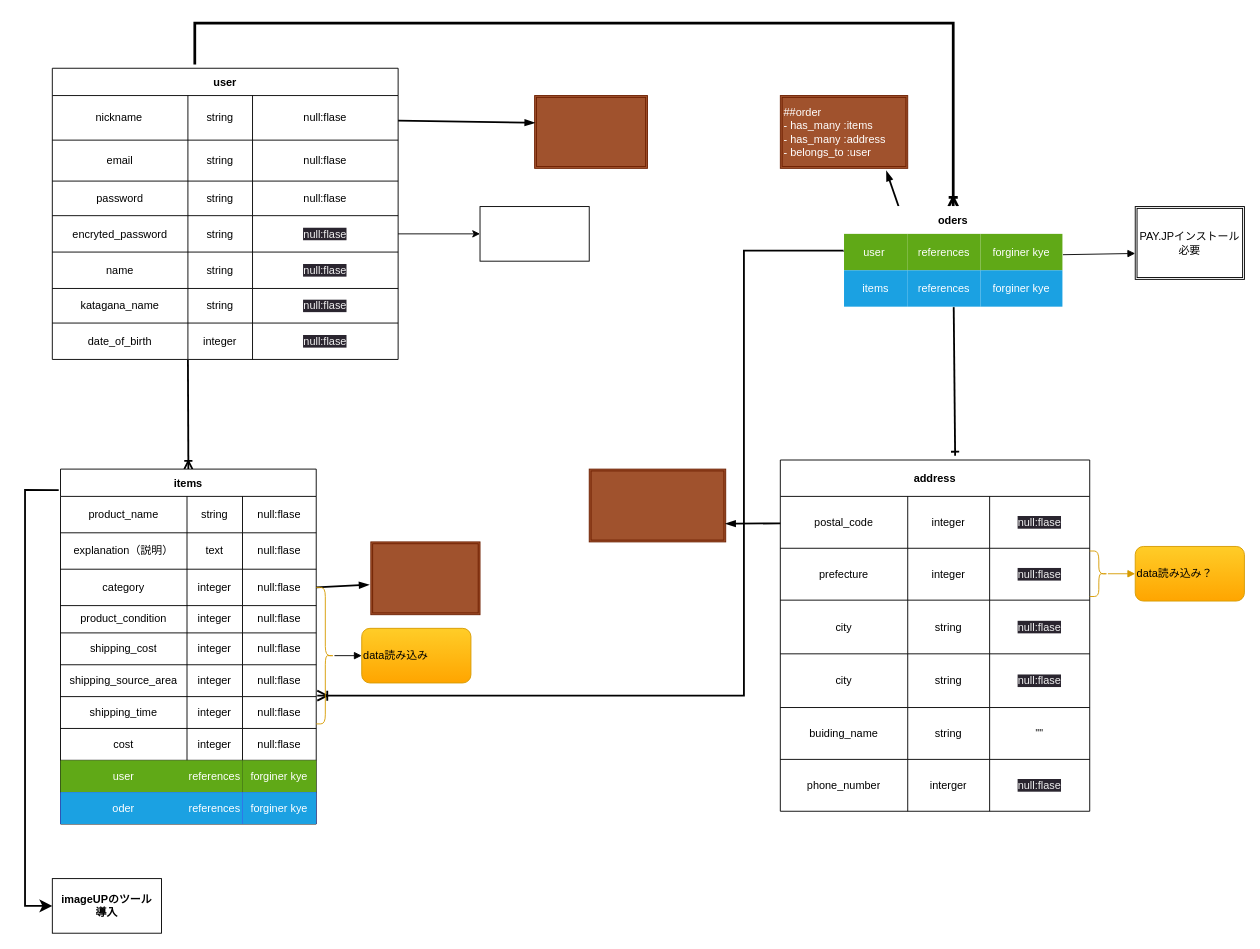
Image size: 1260x949. Some labels were removed from this diagram. Here are the shapes that lost their labels. From the top down, the centre of each, then its label:
At point (590, 131): "##user - has_many :orders- - has_many :items".
At point (534, 233): "文字と数字の両方が必要".
At point (657, 505): "##address - belongs_to :order".
At point (425, 578): "##Items - belongs_to :user - belongs_to :order".
